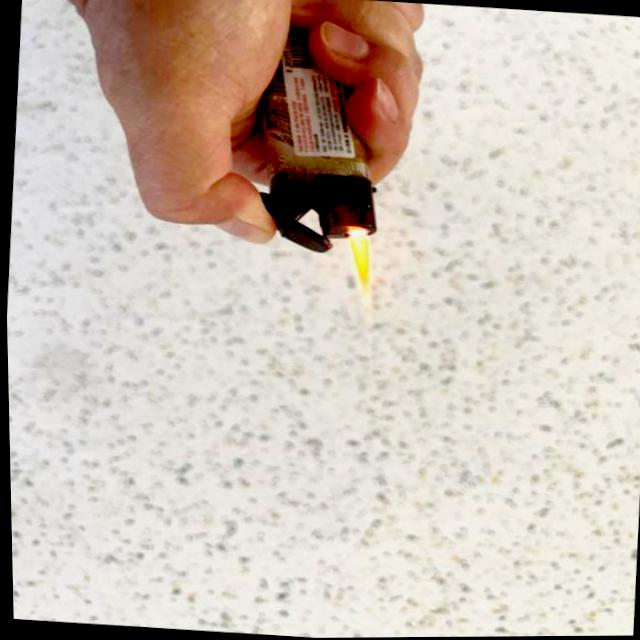helmet: (343, 230, 375, 300)
